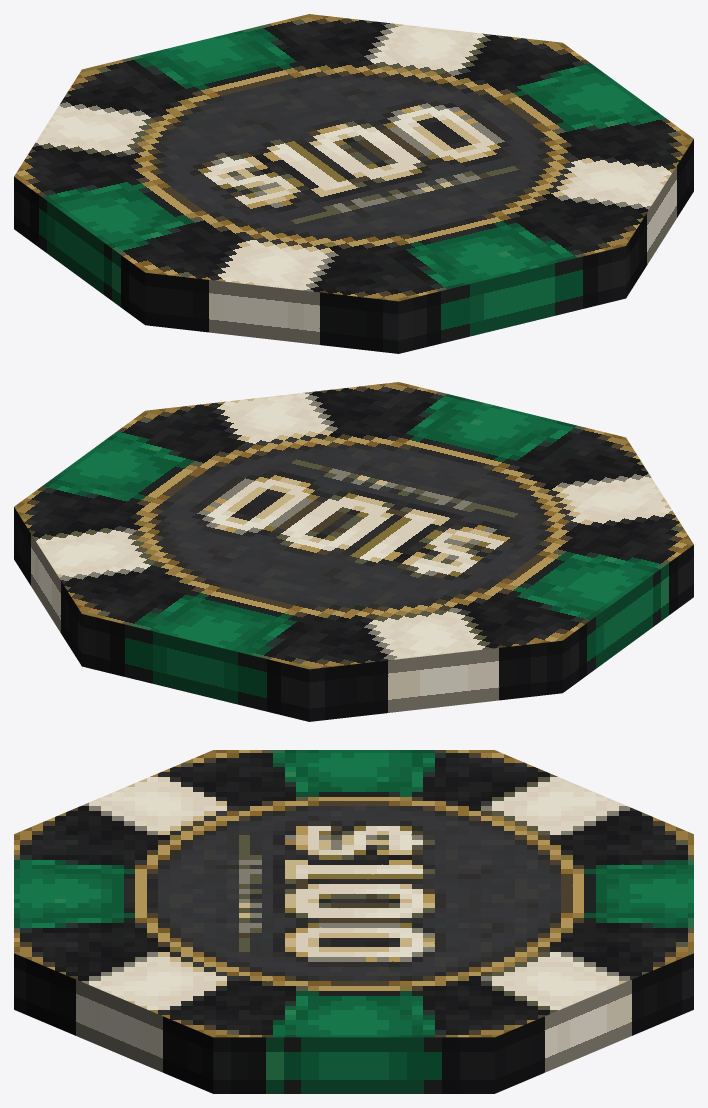
The model's file is chip_100.glb.
3 renders of one model, top to bottom at view 1: azimuth 30°, elevation 25°; view 2: azimuth 150°, elevation 25°; view 3: azimuth 270°, elevation 25°, orthographic. The views are drawn at different scales.
Visible parts, largest first — view 1: chip_100; view 2: chip_100; view 3: chip_100.
Part boxes in pixels (left/top/right/bottom): chip_100: left=14, top=14, right=693, bottom=353; chip_100: left=14, top=382, right=693, bottom=721; chip_100: left=14, top=750, right=693, bottom=1093.
Size of the model in its own units: 0.036 by 0.0033 by 0.036.
1 material, 1 textured.
